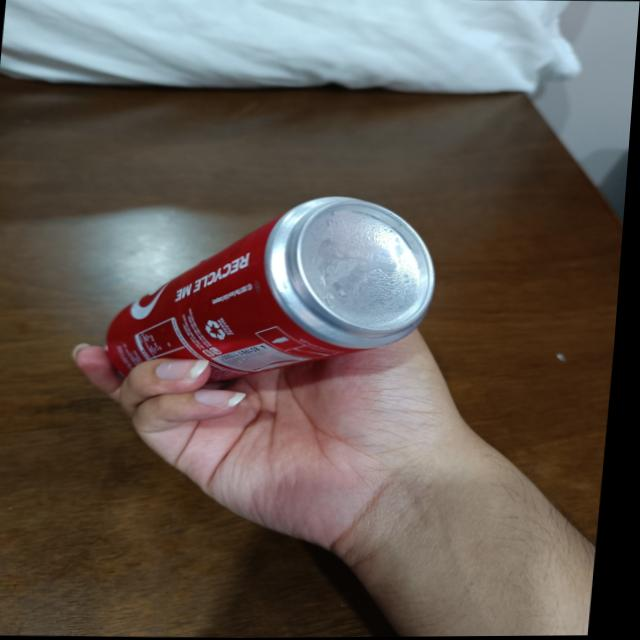coke: (107, 190, 448, 395)
